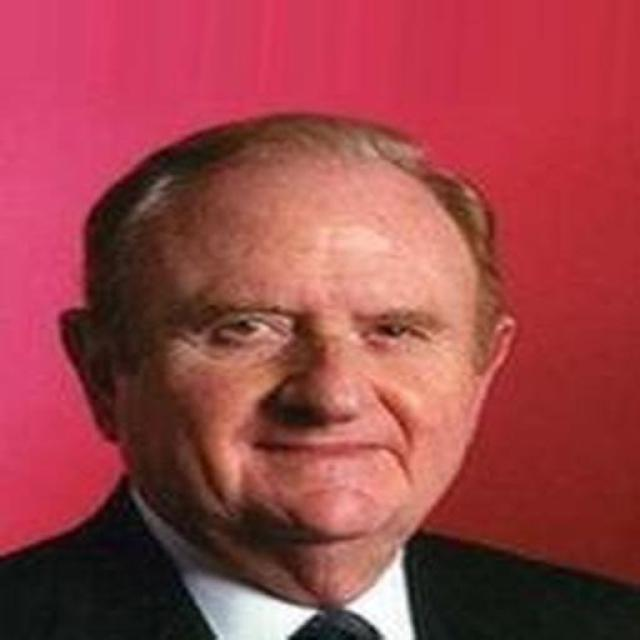bareface: (64, 106, 538, 528)
